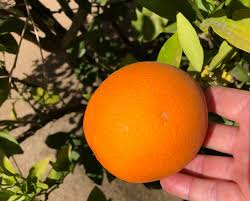orange: (76, 57, 209, 181)
